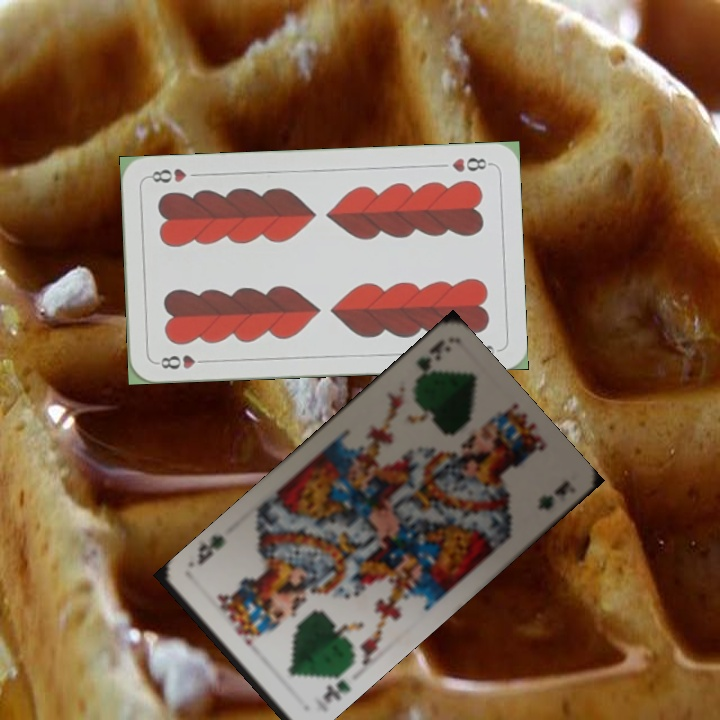GK: (408, 336, 446, 390), (319, 666, 353, 705)
H8: (152, 351, 211, 372), (448, 153, 494, 175)
